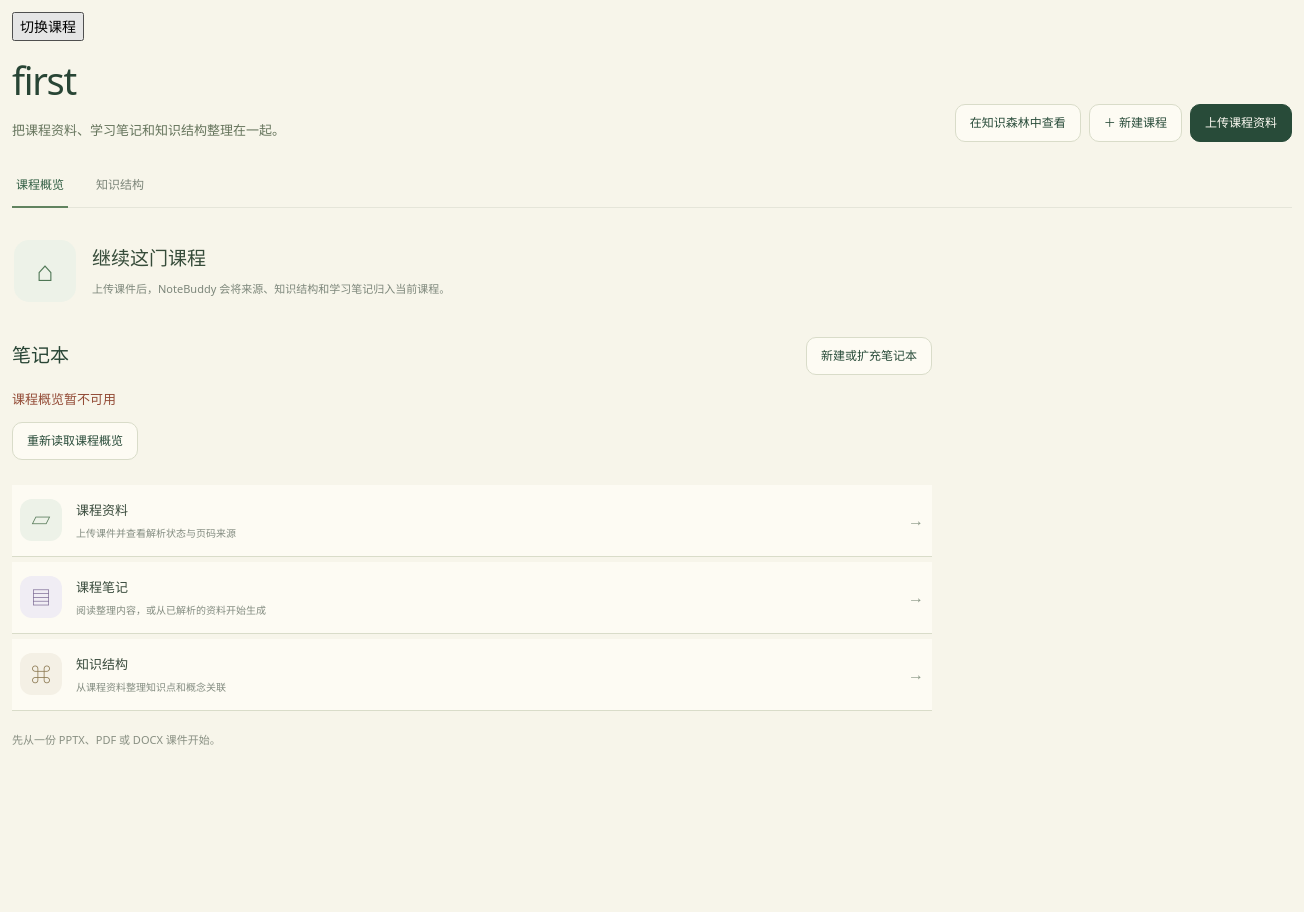
a failed course overview can be retried on the same page
Expected: the message "课程概览暂不可用" is shown, [12, 388, 116, 410]
Click the button "重新读取课程概览" at (75, 441), box [12, 422, 138, 460]
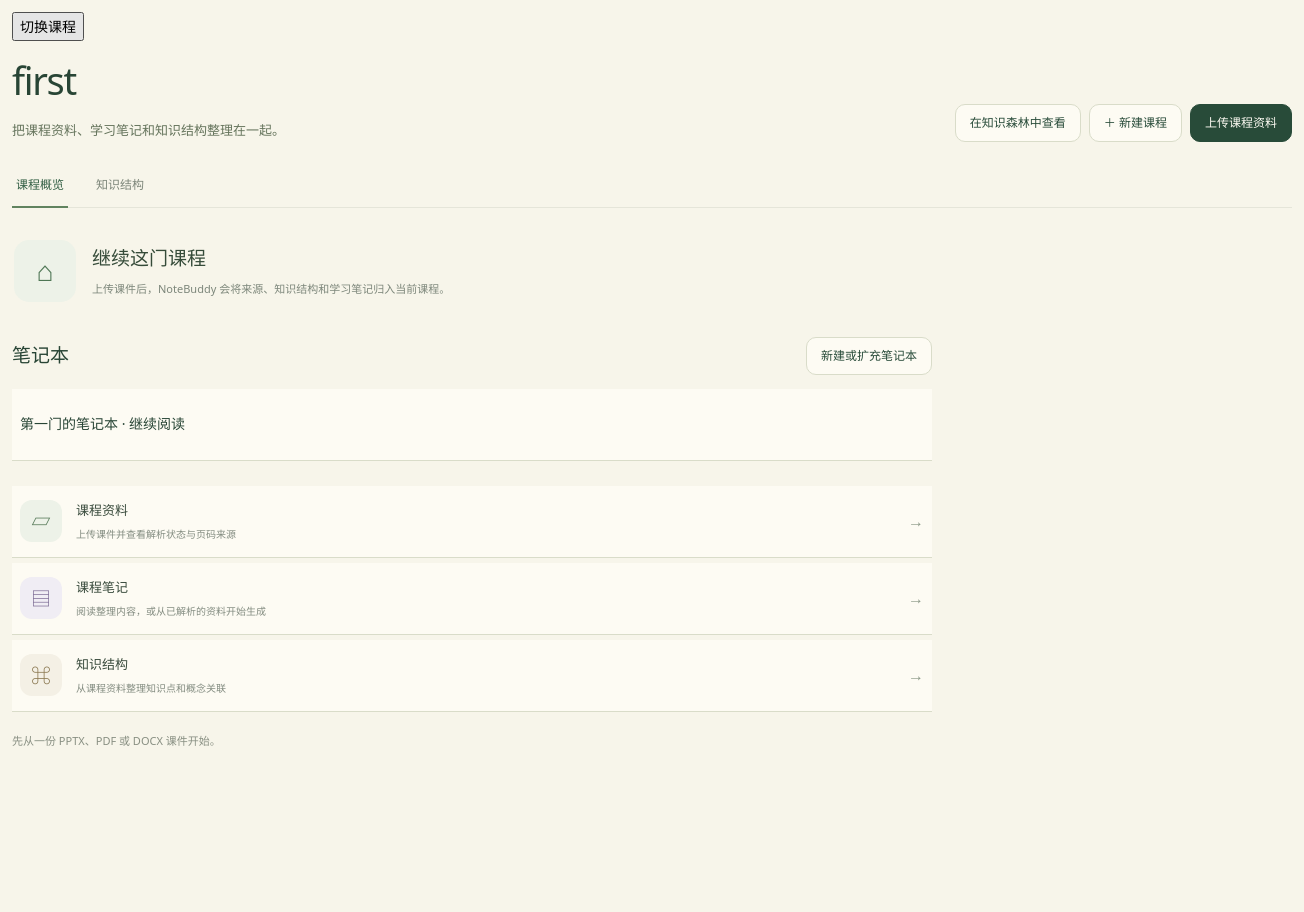
Result: the link "第一门的笔记本 · 继续阅读" is shown at [12, 388, 932, 460]
Result: the message "课程概览暂不可用" is gone
